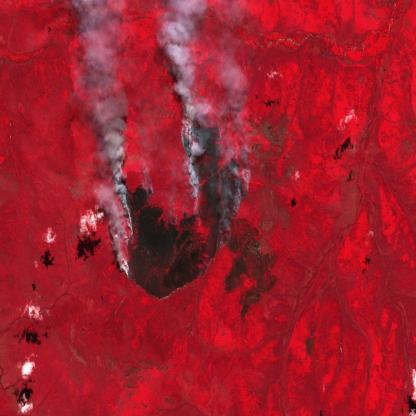fire: (112, 111, 249, 288)
